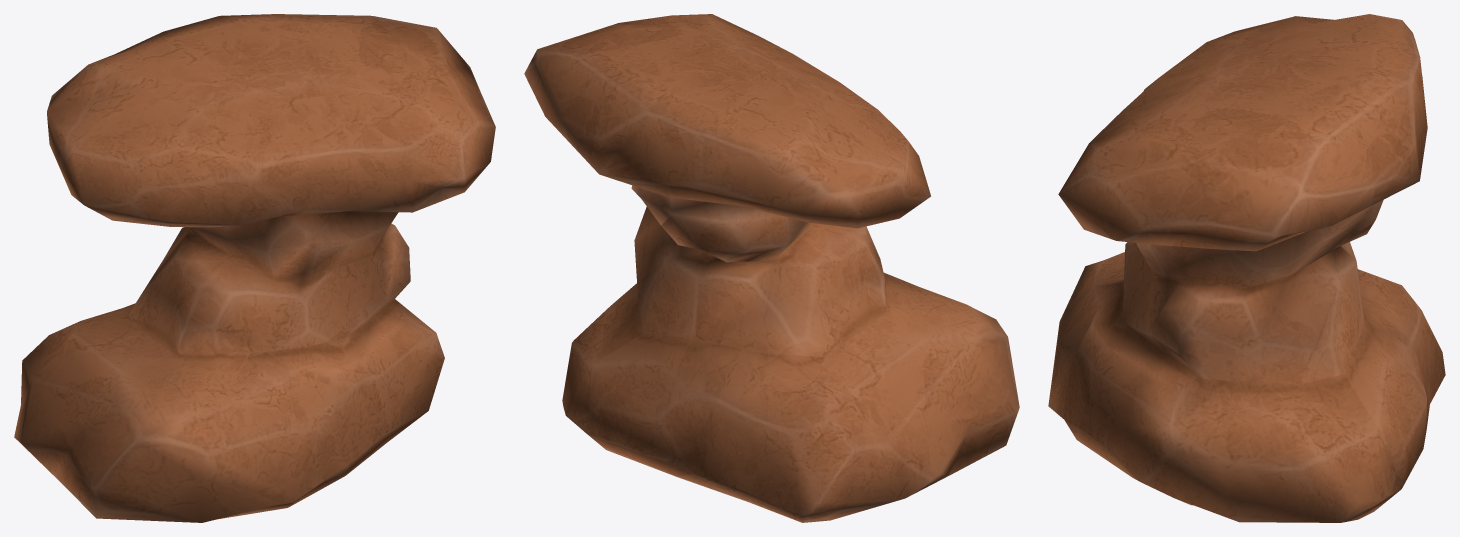
The model's file is Rock4.fbx.
3 renders of one model, left to right at view 1: azimuth 30°, elevation 25°; view 2: azimuth 150°, elevation 25°; view 3: azimuth 270°, elevation 25°, orthographic. The views are drawn at different scales.
Parts seen in each view (by area): view 1: MRock4; view 2: MRock4; view 3: MRock4.
Boxes of the visible parts, box(x1,y1,x2,y2) form: MRock4: box(14, 14, 495, 522); MRock4: box(524, 14, 1019, 522); MRock4: box(1048, 14, 1445, 522).
Size of the model in its own units: 148 by 121 by 107.
